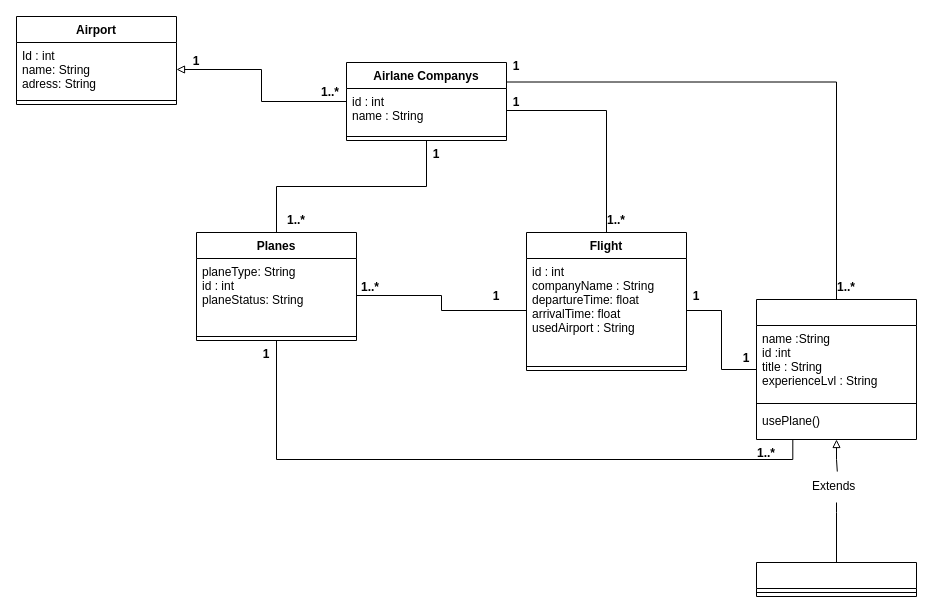
Image size: 933x613. Some labels were removed from this diagram. The shapes that lost their labels are listed below. From the top down, each one's box as (x1, y1, x2, y2) in pixels, then its label:
(756, 298, 916, 440): Pilot
(756, 562, 916, 596): CoPilot
